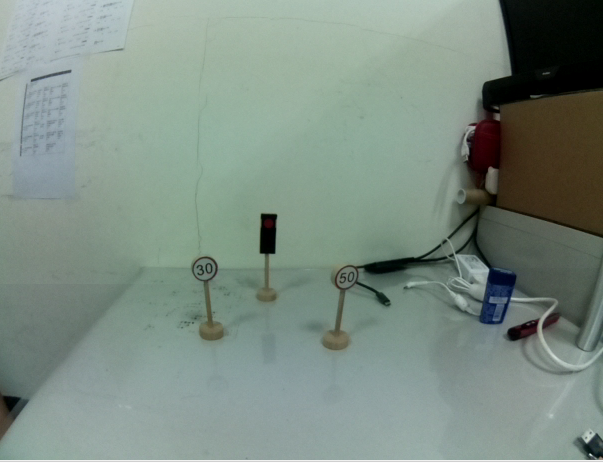Red: (259, 215, 277, 263)
Speed30: (190, 255, 219, 282)
Speed50: (330, 261, 359, 292)
